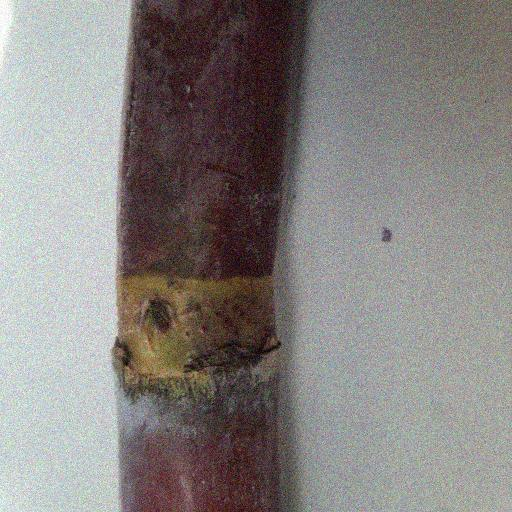Bud: (138, 297, 177, 356)
